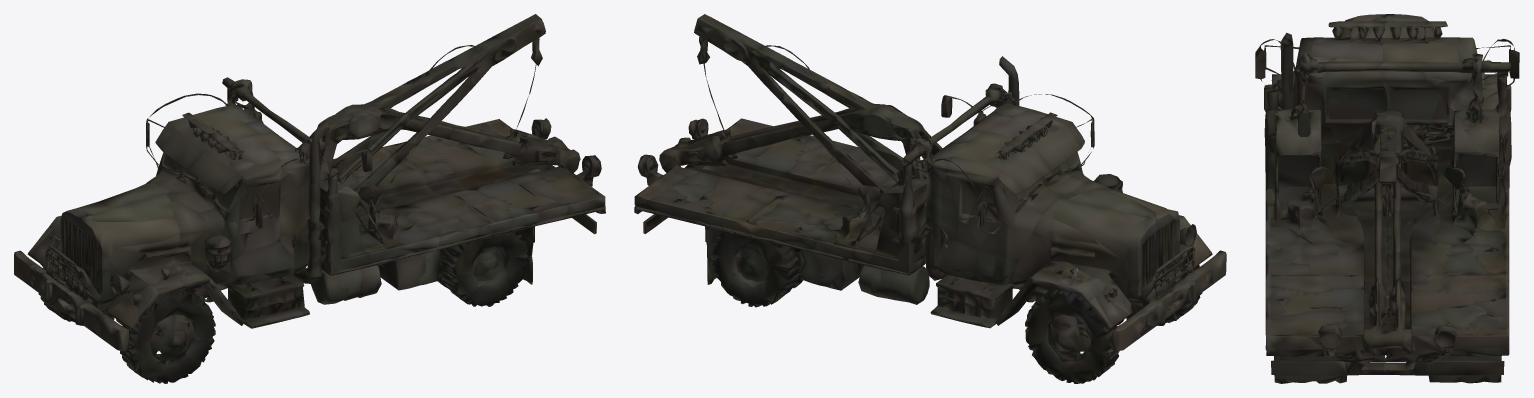
File: car_towtruck_light_q1.glb
3 views of the same model, side by side, from view 1: azimuth 30°, elevation 25°; view 2: azimuth 150°, elevation 25°; view 3: azimuth 270°, elevation 25° (orthographic). The views are drawn at different scales.
Size of the model in its own units: 5.33 by 2.3 by 2.08.
1 material, 1 textured.
